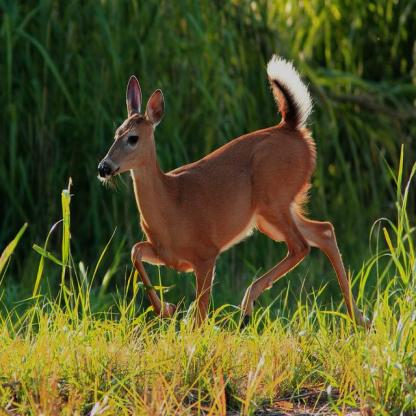Deer: (94, 52, 372, 359)
